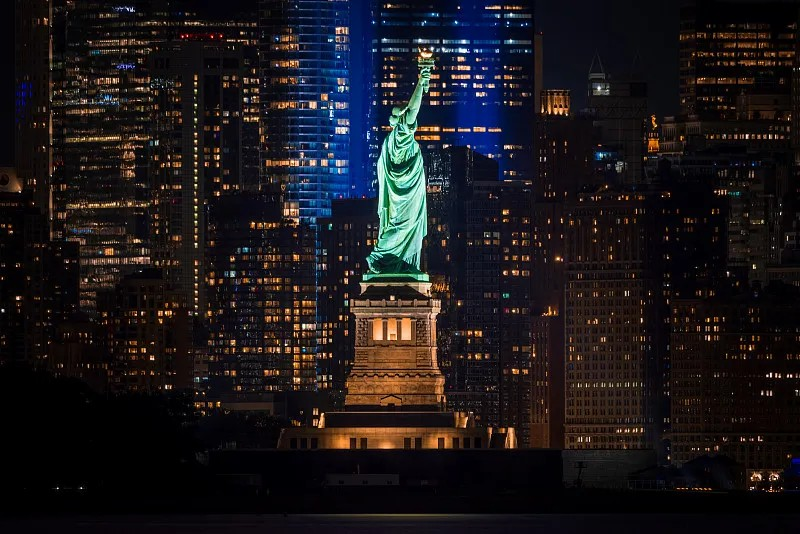SL: (345, 48, 446, 409)
